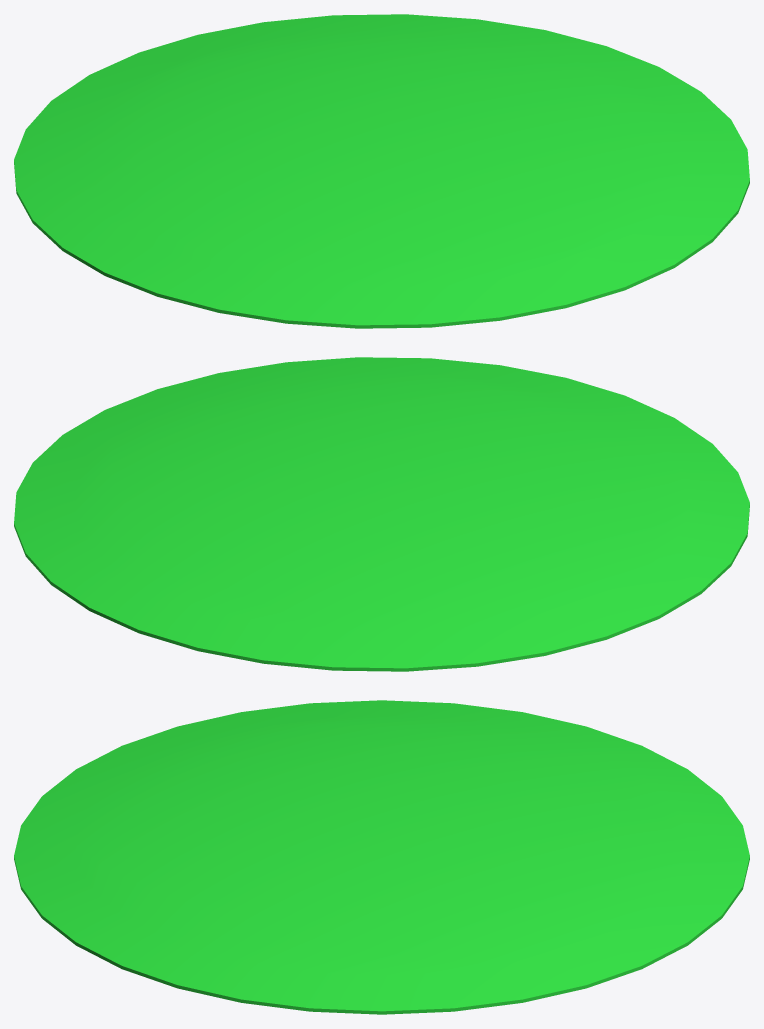
The model's file is Shield.fbx.
3 renders of one model, top to bottom at view 1: azimuth 30°, elevation 25°; view 2: azimuth 150°, elevation 25°; view 3: azimuth 270°, elevation 25°, orthographic.
Parts seen in each view (by area): view 1: Shield; view 2: Shield; view 3: Shield.
Part boxes in pixels (left/top/right/bottom): Shield: left=14, top=14, right=749, bottom=328; Shield: left=14, top=357, right=749, bottom=671; Shield: left=14, top=700, right=749, bottom=1014.
Bounding box in the file's own units: 200 × 10.2 × 200.
